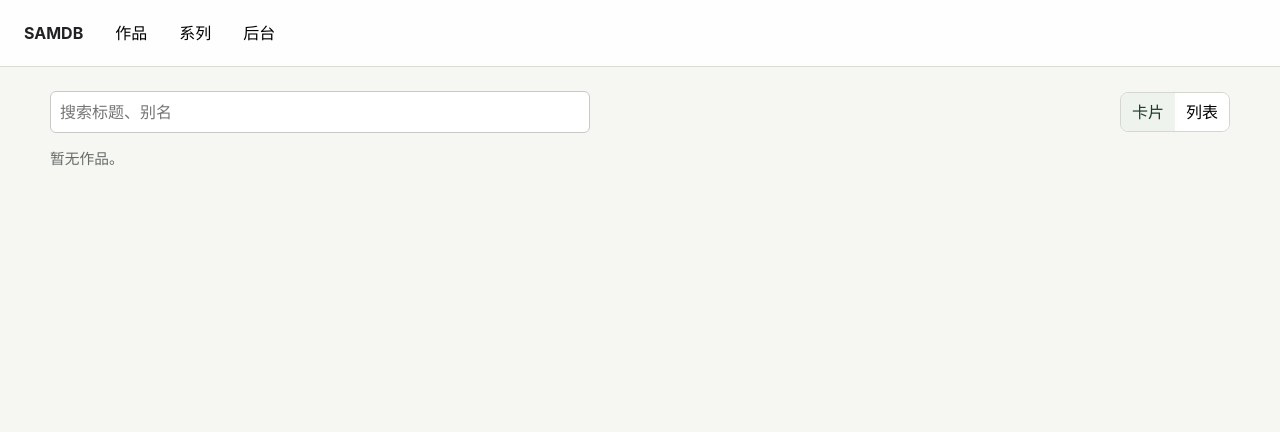
Scenario: App auth flow › opens login when bootstrap is complete but no token exists
This screenshot has width=1280, height=432.
Click the button "后台" at coordinates (259, 33), box [231, 13, 287, 53]
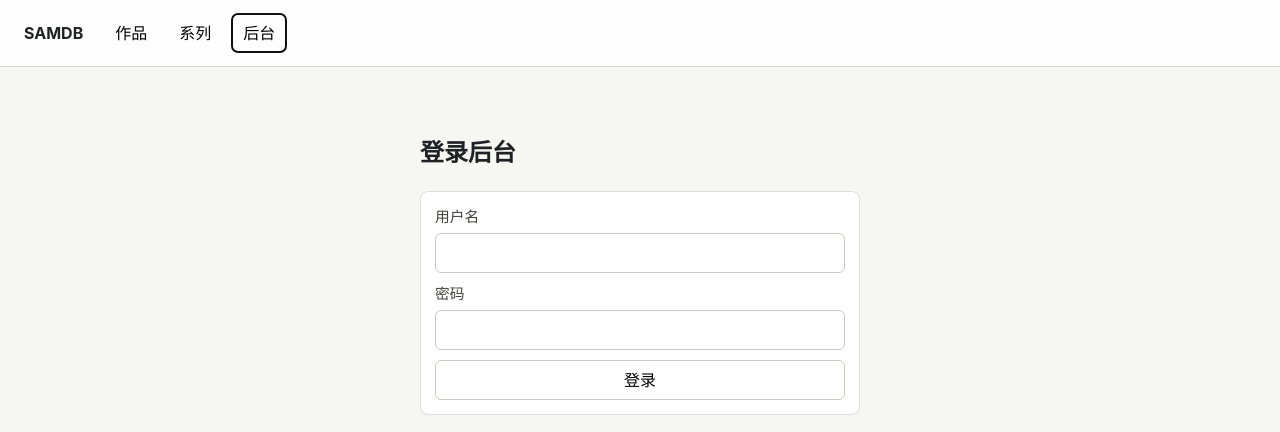
Result: the heading "登录后台" is shown at [420, 138, 516, 167]
